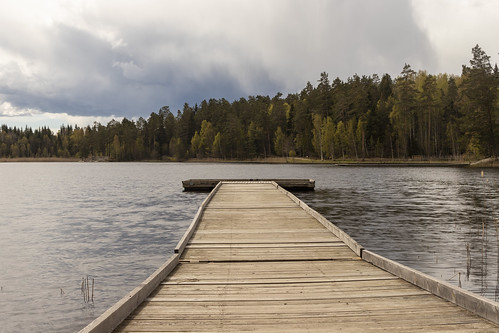sea: (1, 169, 494, 333)
sky: (16, 1, 499, 91)
vegetation: (1, 71, 496, 161)
